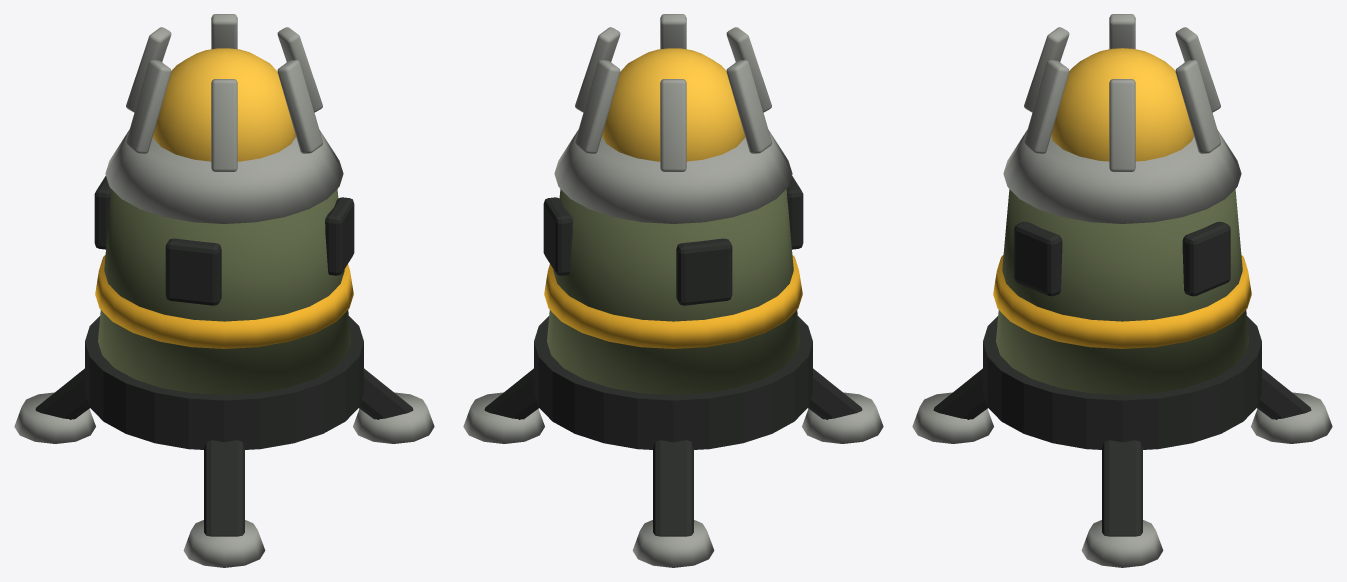
The model's file is bubble_shield.obj.
The picture shows the model from 3 angles, left to right: view 1: azimuth 30°, elevation 25°; view 2: azimuth 150°, elevation 25°; view 3: azimuth 270°, elevation 25°; orthographic projection.
Bounding box in the file's own units: 0.202 × 0.2506 × 0.2259.
